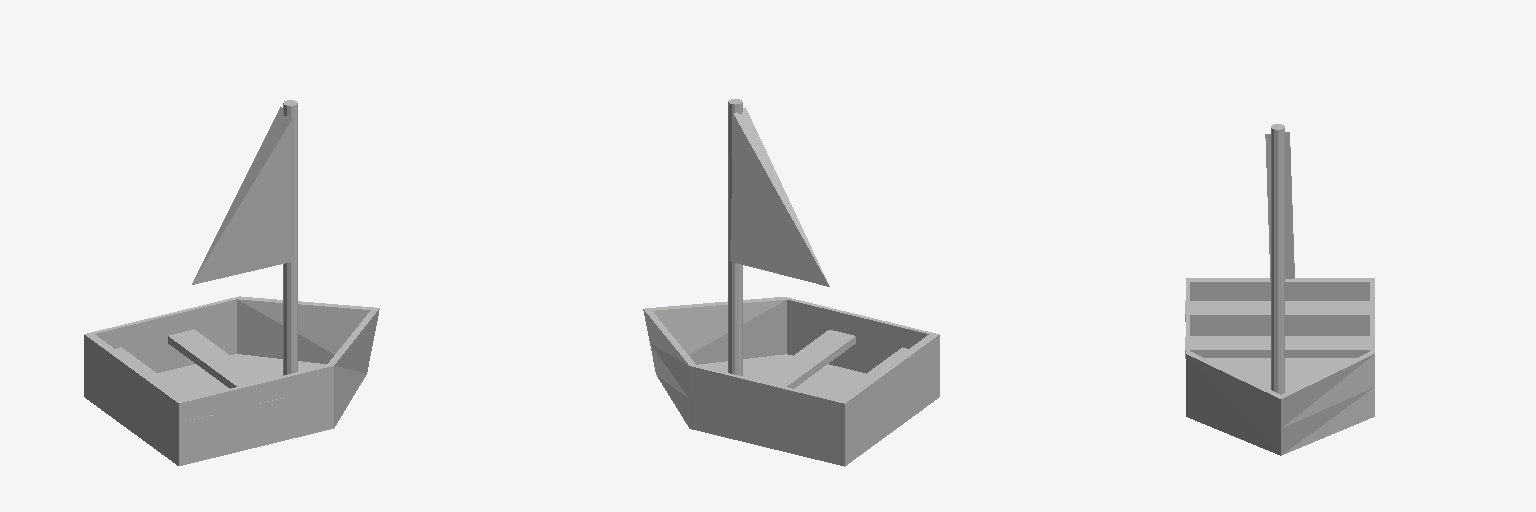
Rendered from boat.obj.
The picture shows the model from 3 angles: view 1: azimuth 30°, elevation 25°; view 2: azimuth 150°, elevation 25°; view 3: azimuth 270°, elevation 25°; orthographic projection.
Parts seen in each view (by area): view 1: Cube_Cube.001, Cone, Cylinder, Cube.002_Cube.003, Cube.001_Cube.002; view 2: Cube_Cube.001, Cone, Cylinder, Cube.002_Cube.003; view 3: Cube_Cube.001, Cylinder, Cube.001_Cube.002, Cube.002_Cube.003, Cone.
Part boxes in pixels (x1,y1,x2,y2): Cube_Cube.001: (84, 296, 379, 465); Cone: (192, 107, 292, 284); Cylinder: (283, 100, 297, 375); Cube.002_Cube.003: (168, 329, 286, 410); Cube.001_Cube.002: (116, 347, 213, 428); Cube_Cube.001: (643, 297, 939, 466); Cone: (730, 107, 829, 286); Cylinder: (728, 99, 742, 375); Cube.002_Cube.003: (759, 330, 855, 388); Cube_Cube.001: (1186, 278, 1374, 455); Cylinder: (1271, 124, 1284, 394); Cube.001_Cube.002: (1185, 301, 1369, 321); Cube.002_Cube.003: (1185, 337, 1369, 357); Cone: (1265, 132, 1294, 280).
Size of the model in its own units: 7.42 by 8.3 by 4.91.